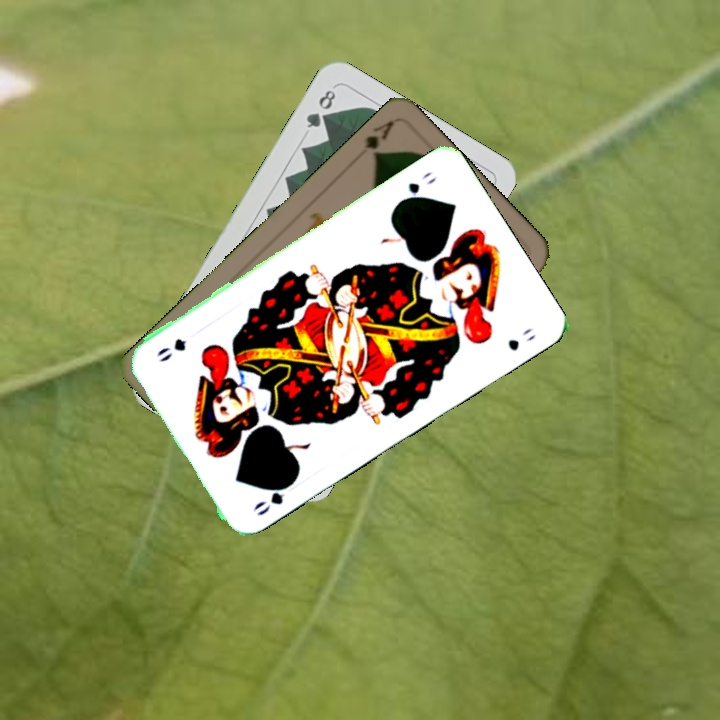G8: (302, 85, 339, 131)
GA: (360, 117, 396, 161)
GO: (249, 478, 296, 519), (393, 167, 439, 208)
